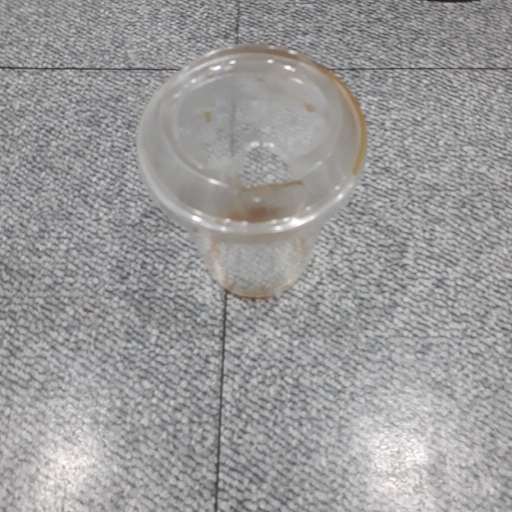Plastic_2: (135, 46, 368, 298)
